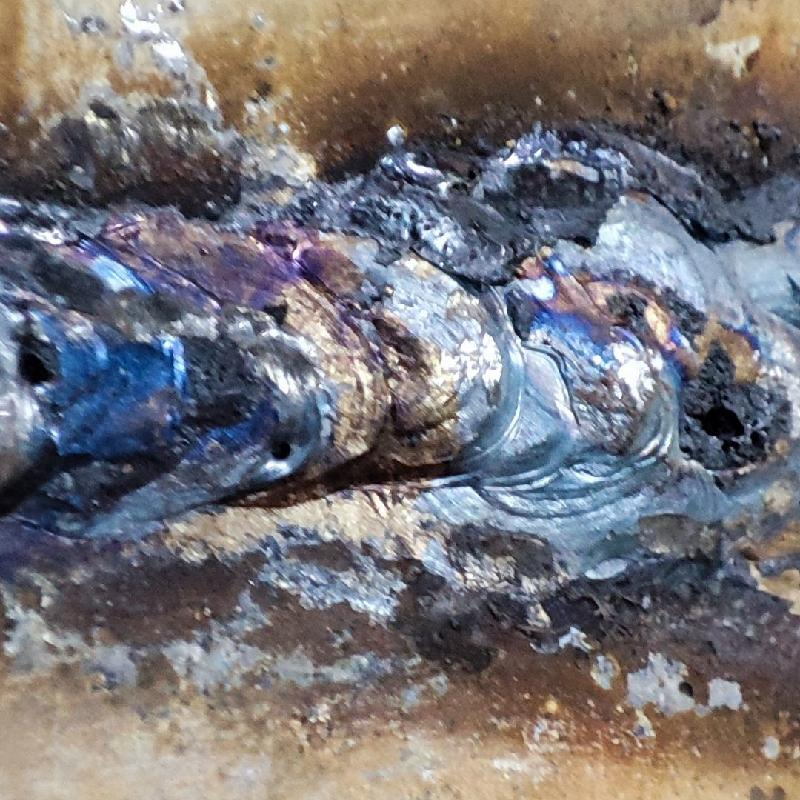Surface_pores: (685, 360, 775, 470), (9, 326, 71, 401), (253, 434, 315, 481)
good: (2, 180, 799, 520)
